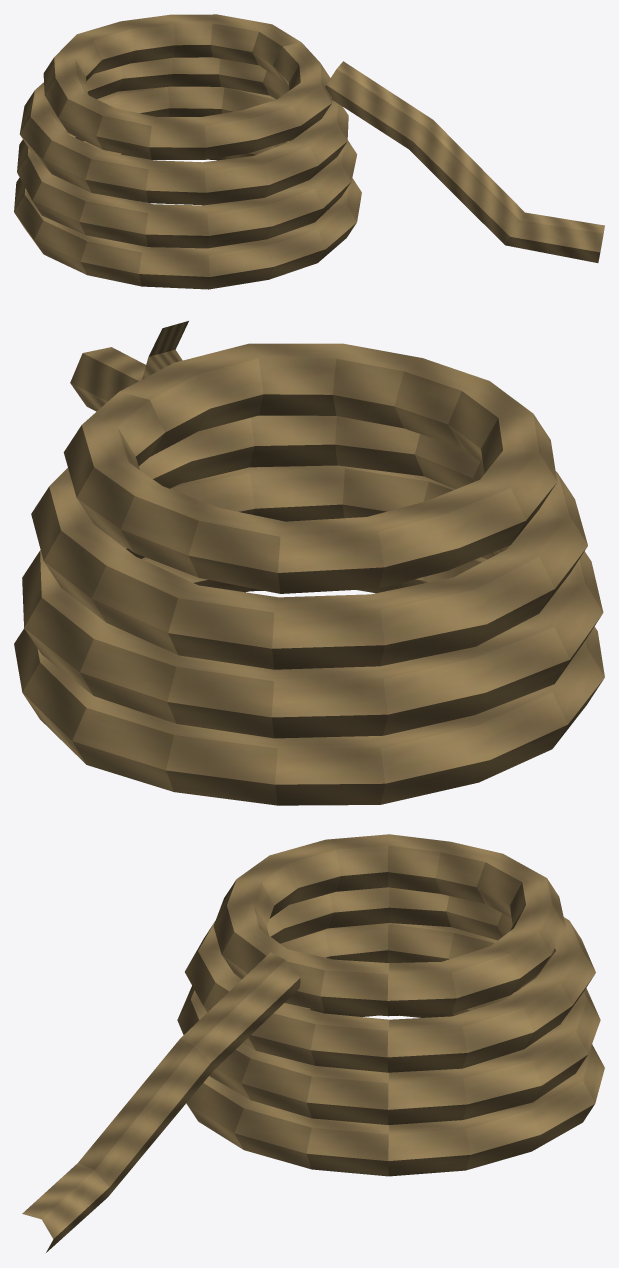
File: prop_touwrol.glb
3 views of the same model, one above another, from view 1: azimuth 30°, elevation 25°; view 2: azimuth 150°, elevation 25°; view 3: azimuth 270°, elevation 25° (orthographic). The views are drawn at different scales.
Parts seen in each view (by area): view 1: prop_touwrol; view 2: prop_touwrol; view 3: prop_touwrol.
Boxes of the visible parts, <box> form: prop_touwrol: <box>14,14,604,289</box>; prop_touwrol: <box>14,321,604,805</box>; prop_touwrol: <box>22,834,604,1252</box>.
Size of the model in its own units: 0.4168 by 0.148 by 0.3994.
Materials: 1 (1 with a texture image).
